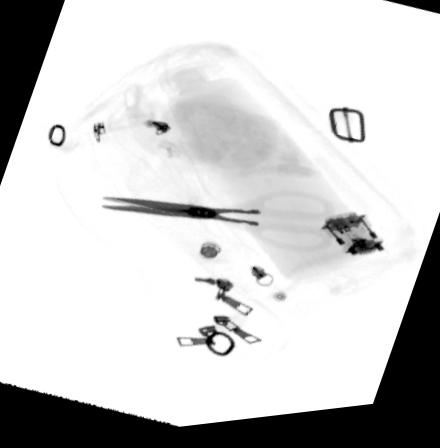Scissors: (100, 197, 335, 260)
